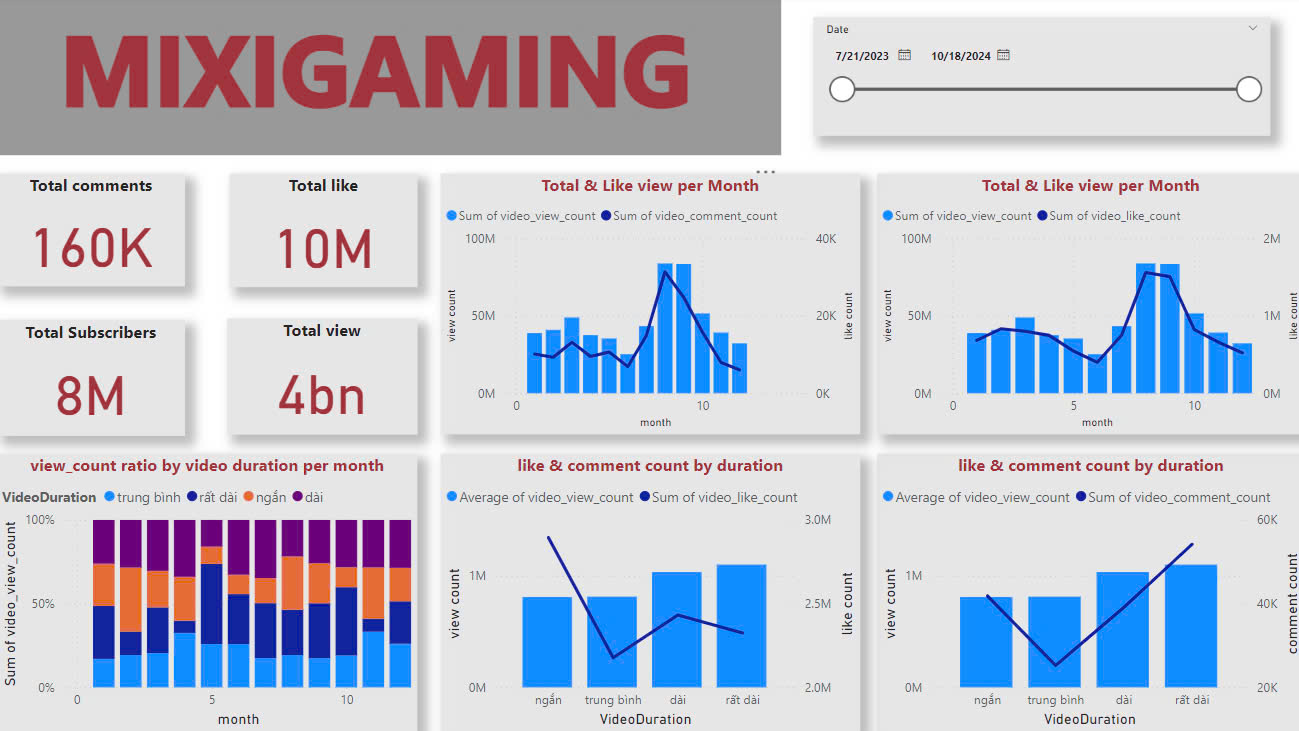

What the dashboard file says about the page in this screenshot:
{"tool":"powerbi","page":{"name":"Page 1","canvas":[1280,720],"ordinal":0},"visuals":[{"type":"textbox","box":[0,0,767.5,156.2],"z":0},{"type":"card","title":"Total view","fields":{"Values":["Sum(dim_channel.total_view)"]},"box":[225,315,186.2,113.8],"z":1000},{"type":"card","title":"Total Subscribers","fields":{"Values":["Sum(dim_channel.subscriber_count)"]},"box":[0,316.2,183.8,113.8],"z":2000},{"type":"slicer","fields":{"Values":["dim_date.Date"]},"box":[798.8,21.2,447.5,116.2],"z":3000},{"type":"card","title":"Total comments","fields":{"Values":["Sum(fact_video_detail.video_comment_count)"]},"box":[0,173.8,183.8,110],"z":4000},{"type":"card","title":"Total like","fields":{"Values":["Sum(fact_video_detail.video_like_count)"]},"box":[227.5,173.8,183.8,111.2],"z":5000},{"type":"lineStackedColumnComboChart","title":"like & comment count by duration","fields":{"Category":["dim_video.VideoDuration"],"Y":["Avg(fact_video_detail.video_view_count)"],"Y2":["Sum(fact_video_detail.video_comment_count)"]},"box":[861.2,447.5,418.8,272.5],"z":6000},{"type":"lineStackedColumnComboChart","title":" Total & Like view per Month","fields":{"Y":["Sum(fact_video_detail.video_view_count)"],"Category":["dim_date.month"],"Y2":["Sum(fact_video_detail.video_like_count)"]},"box":[861.2,173.8,418.8,255],"z":7000},{"type":"lineStackedColumnComboChart","title":" Total & Like view per Month","fields":{"Y":["Sum(fact_video_detail.video_view_count)"],"Category":["dim_date.month"],"Y2":["Sum(fact_video_detail.video_comment_count)"]},"box":[433.8,173.8,410,255],"z":8000},{"type":"lineStackedColumnComboChart","title":"like & comment count by duration","fields":{"Category":["dim_video.VideoDuration"],"Y":["Avg(fact_video_detail.video_view_count)"],"Y2":["Sum(fact_video_detail.video_like_count)"]},"box":[433.8,447.5,410,272.5],"z":9000},{"type":"hundredPercentStackedColumnChart","title":"view_count ratio by video duration per month","fields":{"Series":["dim_video.VideoDuration"],"Y":["Sum(fact_video_detail.video_view_count)"],"Category":["dim_date.month"]},"box":[0,447.5,411.2,272.5],"z":10000}]}

Visuals, with their boxes in screenshot pixels (x1, y1, x2, y2), scaled from the page's 1280x720 canvas onto the 1299x731 screenshot:
textbox: detection(0, 0, 779, 159)
"Total view" card: detection(228, 320, 417, 435)
"Total Subscribers" card: detection(0, 321, 187, 437)
slicer - dim_date.Date: detection(811, 22, 1265, 139)
"Total comments" card: detection(0, 176, 187, 288)
"Total like" card: detection(231, 176, 417, 289)
"like & comment count by duration" lineStackedColumnComboChart: detection(874, 454, 1298, 730)
" Total & Like view per Month" lineStackedColumnComboChart: detection(874, 176, 1298, 435)
" Total & Like view per Month" lineStackedColumnComboChart: detection(440, 176, 856, 435)
"like & comment count by duration" lineStackedColumnComboChart: detection(440, 454, 856, 730)
"view_count ratio by video duration per month" hundredPercentStackedColumnChart: detection(0, 454, 417, 730)
